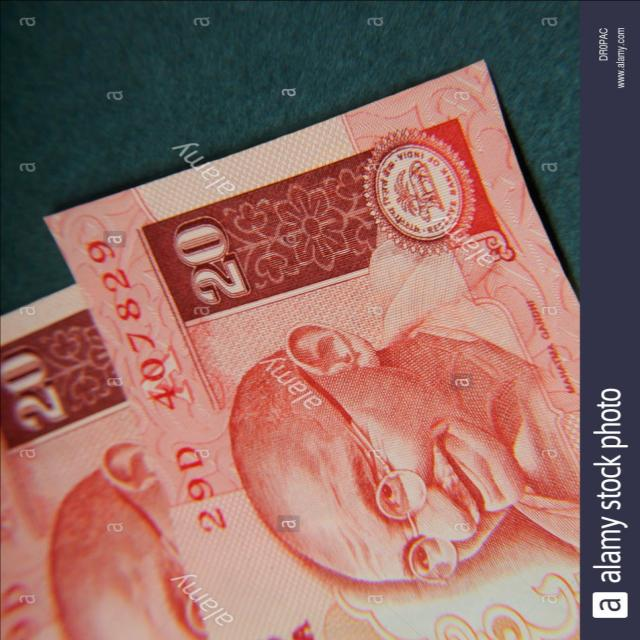20IndianRupees: (54, 57, 583, 640)
